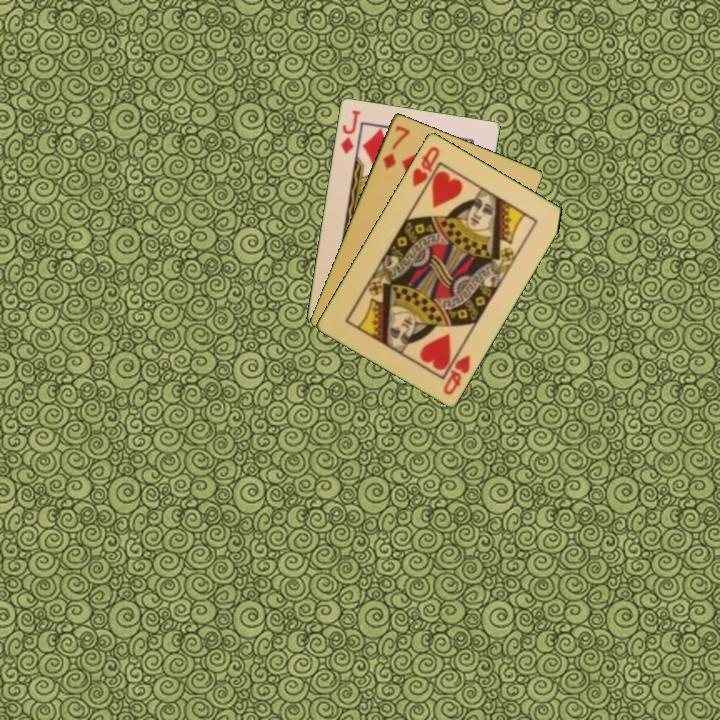7d: (379, 122, 413, 172)
Jd: (336, 106, 363, 156)
Qh: (408, 142, 443, 189), (439, 350, 473, 397)
